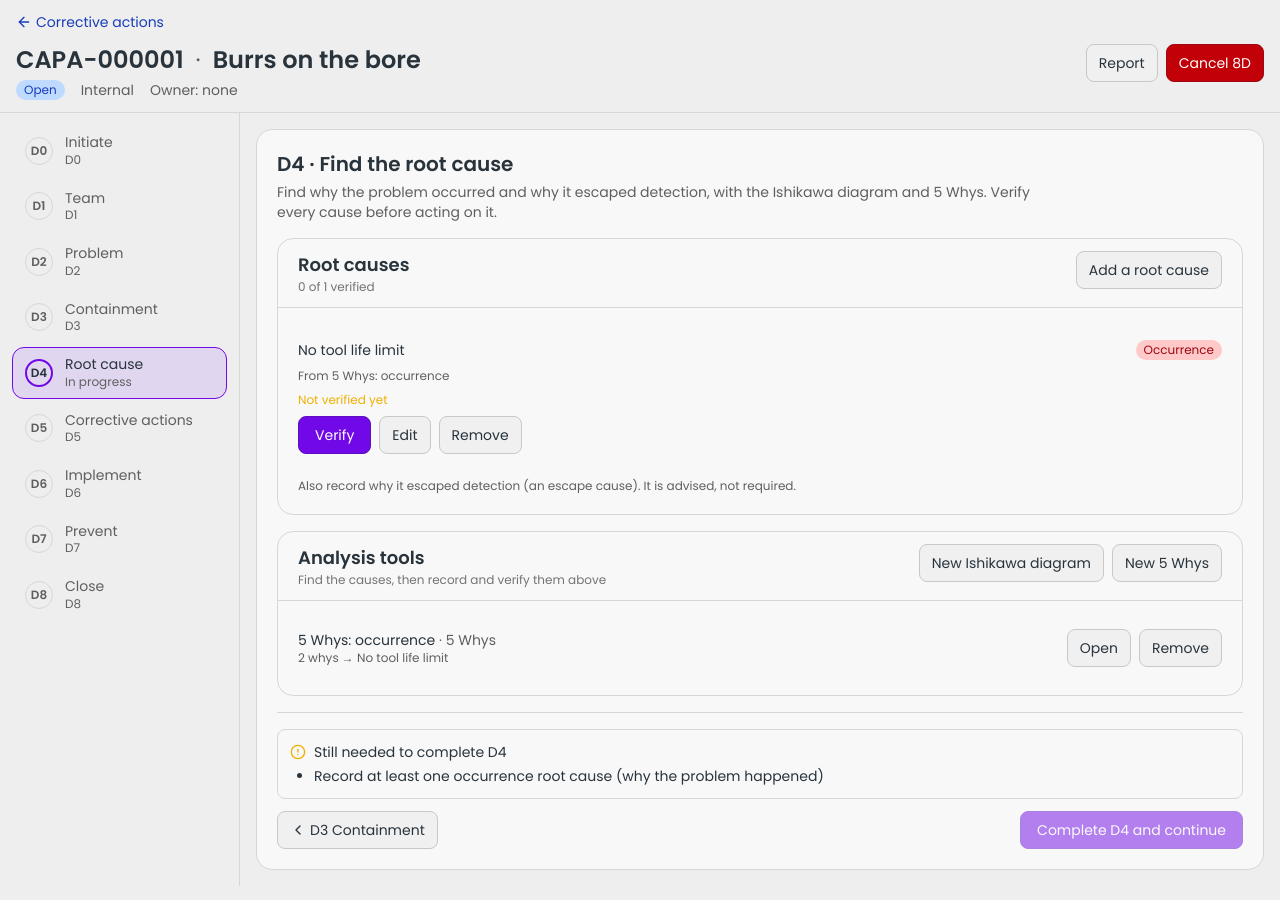
Scenario: D4: 5 Whys › reopens a saved chain with its answers, and will not record the same conclusion twice
What coordinates should you click on to do the following:
click the button with aria-label "Open 5 Whys: occurrence"
I would click on:
 (1099, 648)
Its box is [1067,629,1131,667].
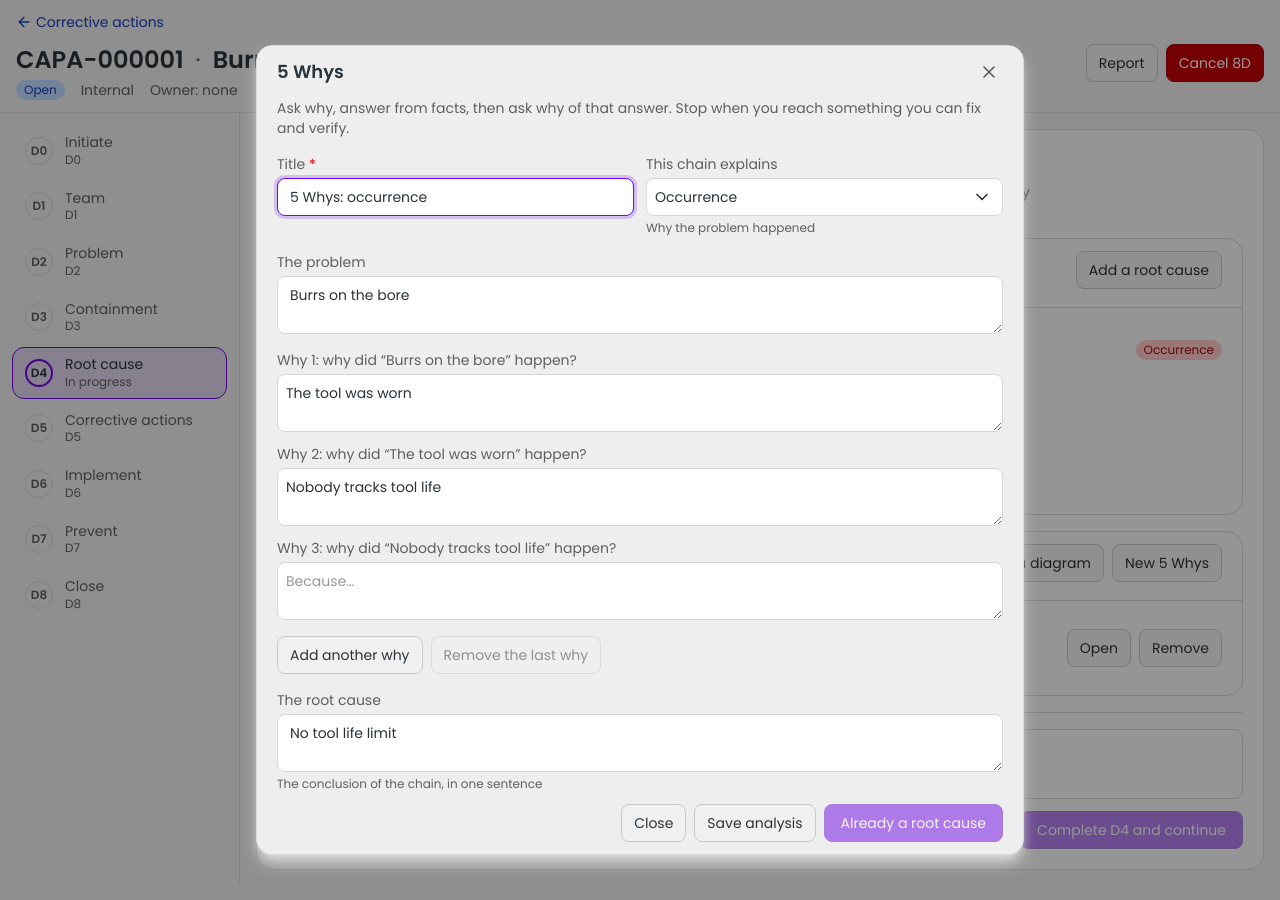
Now the text box named "Because (why 1)" holds "The tool was worn", box [277,374,1003,432]
Now the text box labelled "The root cause" holds "No tool life limit", box [277,714,1003,772]
Now the button "Already a root cause" is disabled, box [824,804,1003,842]
